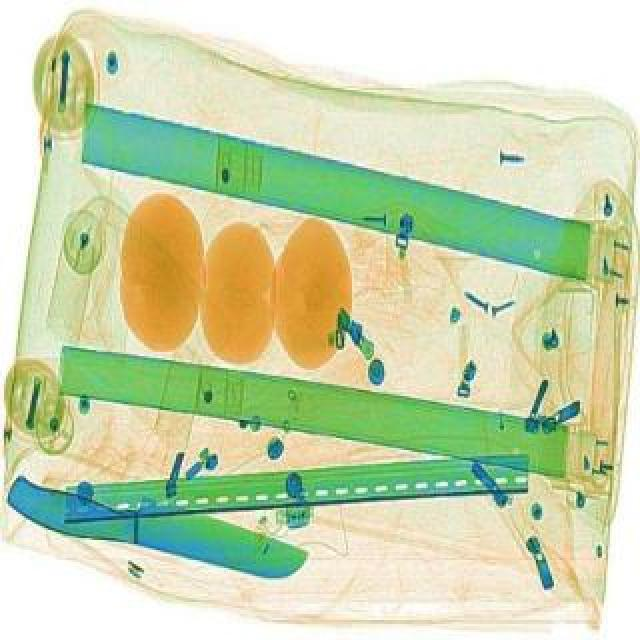knife: (0, 464, 312, 582)
